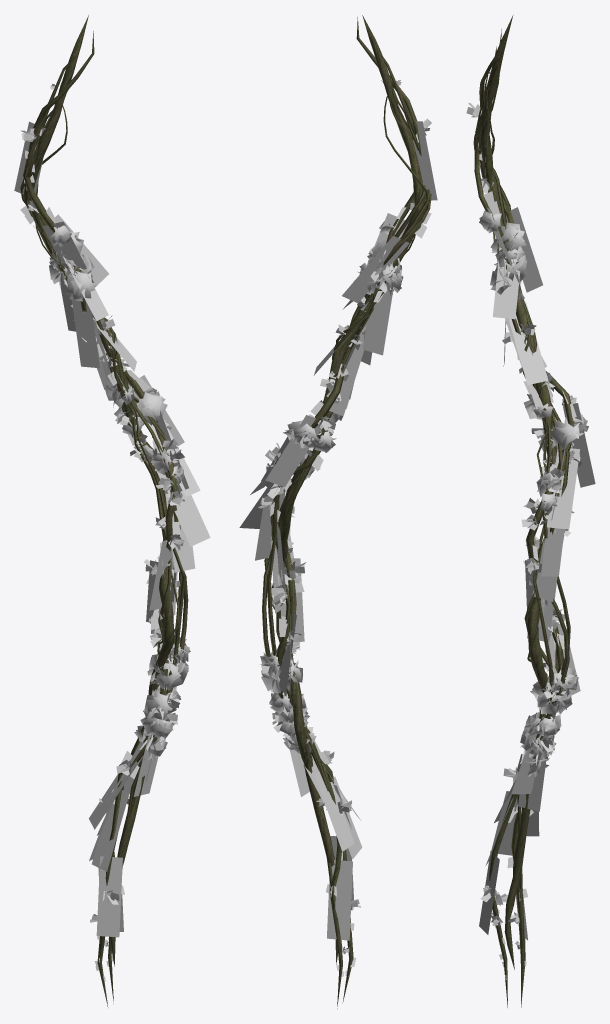
The model's file is Liana2_L1.fbx.
3 renders of one model, left to right at view 1: azimuth 30°, elevation 25°; view 2: azimuth 210°, elevation 25°; view 3: azimuth 330°, elevation 25°, orthographic.
Visible parts, largest first — view 1: polySurface39; view 2: polySurface39; view 3: polySurface39.
Part boxes in pixels (bbox=[...]): polySurface39: bbox=[14, 15, 210, 1007]; polySurface39: bbox=[239, 15, 437, 1008]; polySurface39: bbox=[466, 15, 595, 1007].
Size of the model in its own units: 221 by 1433 by 164.
